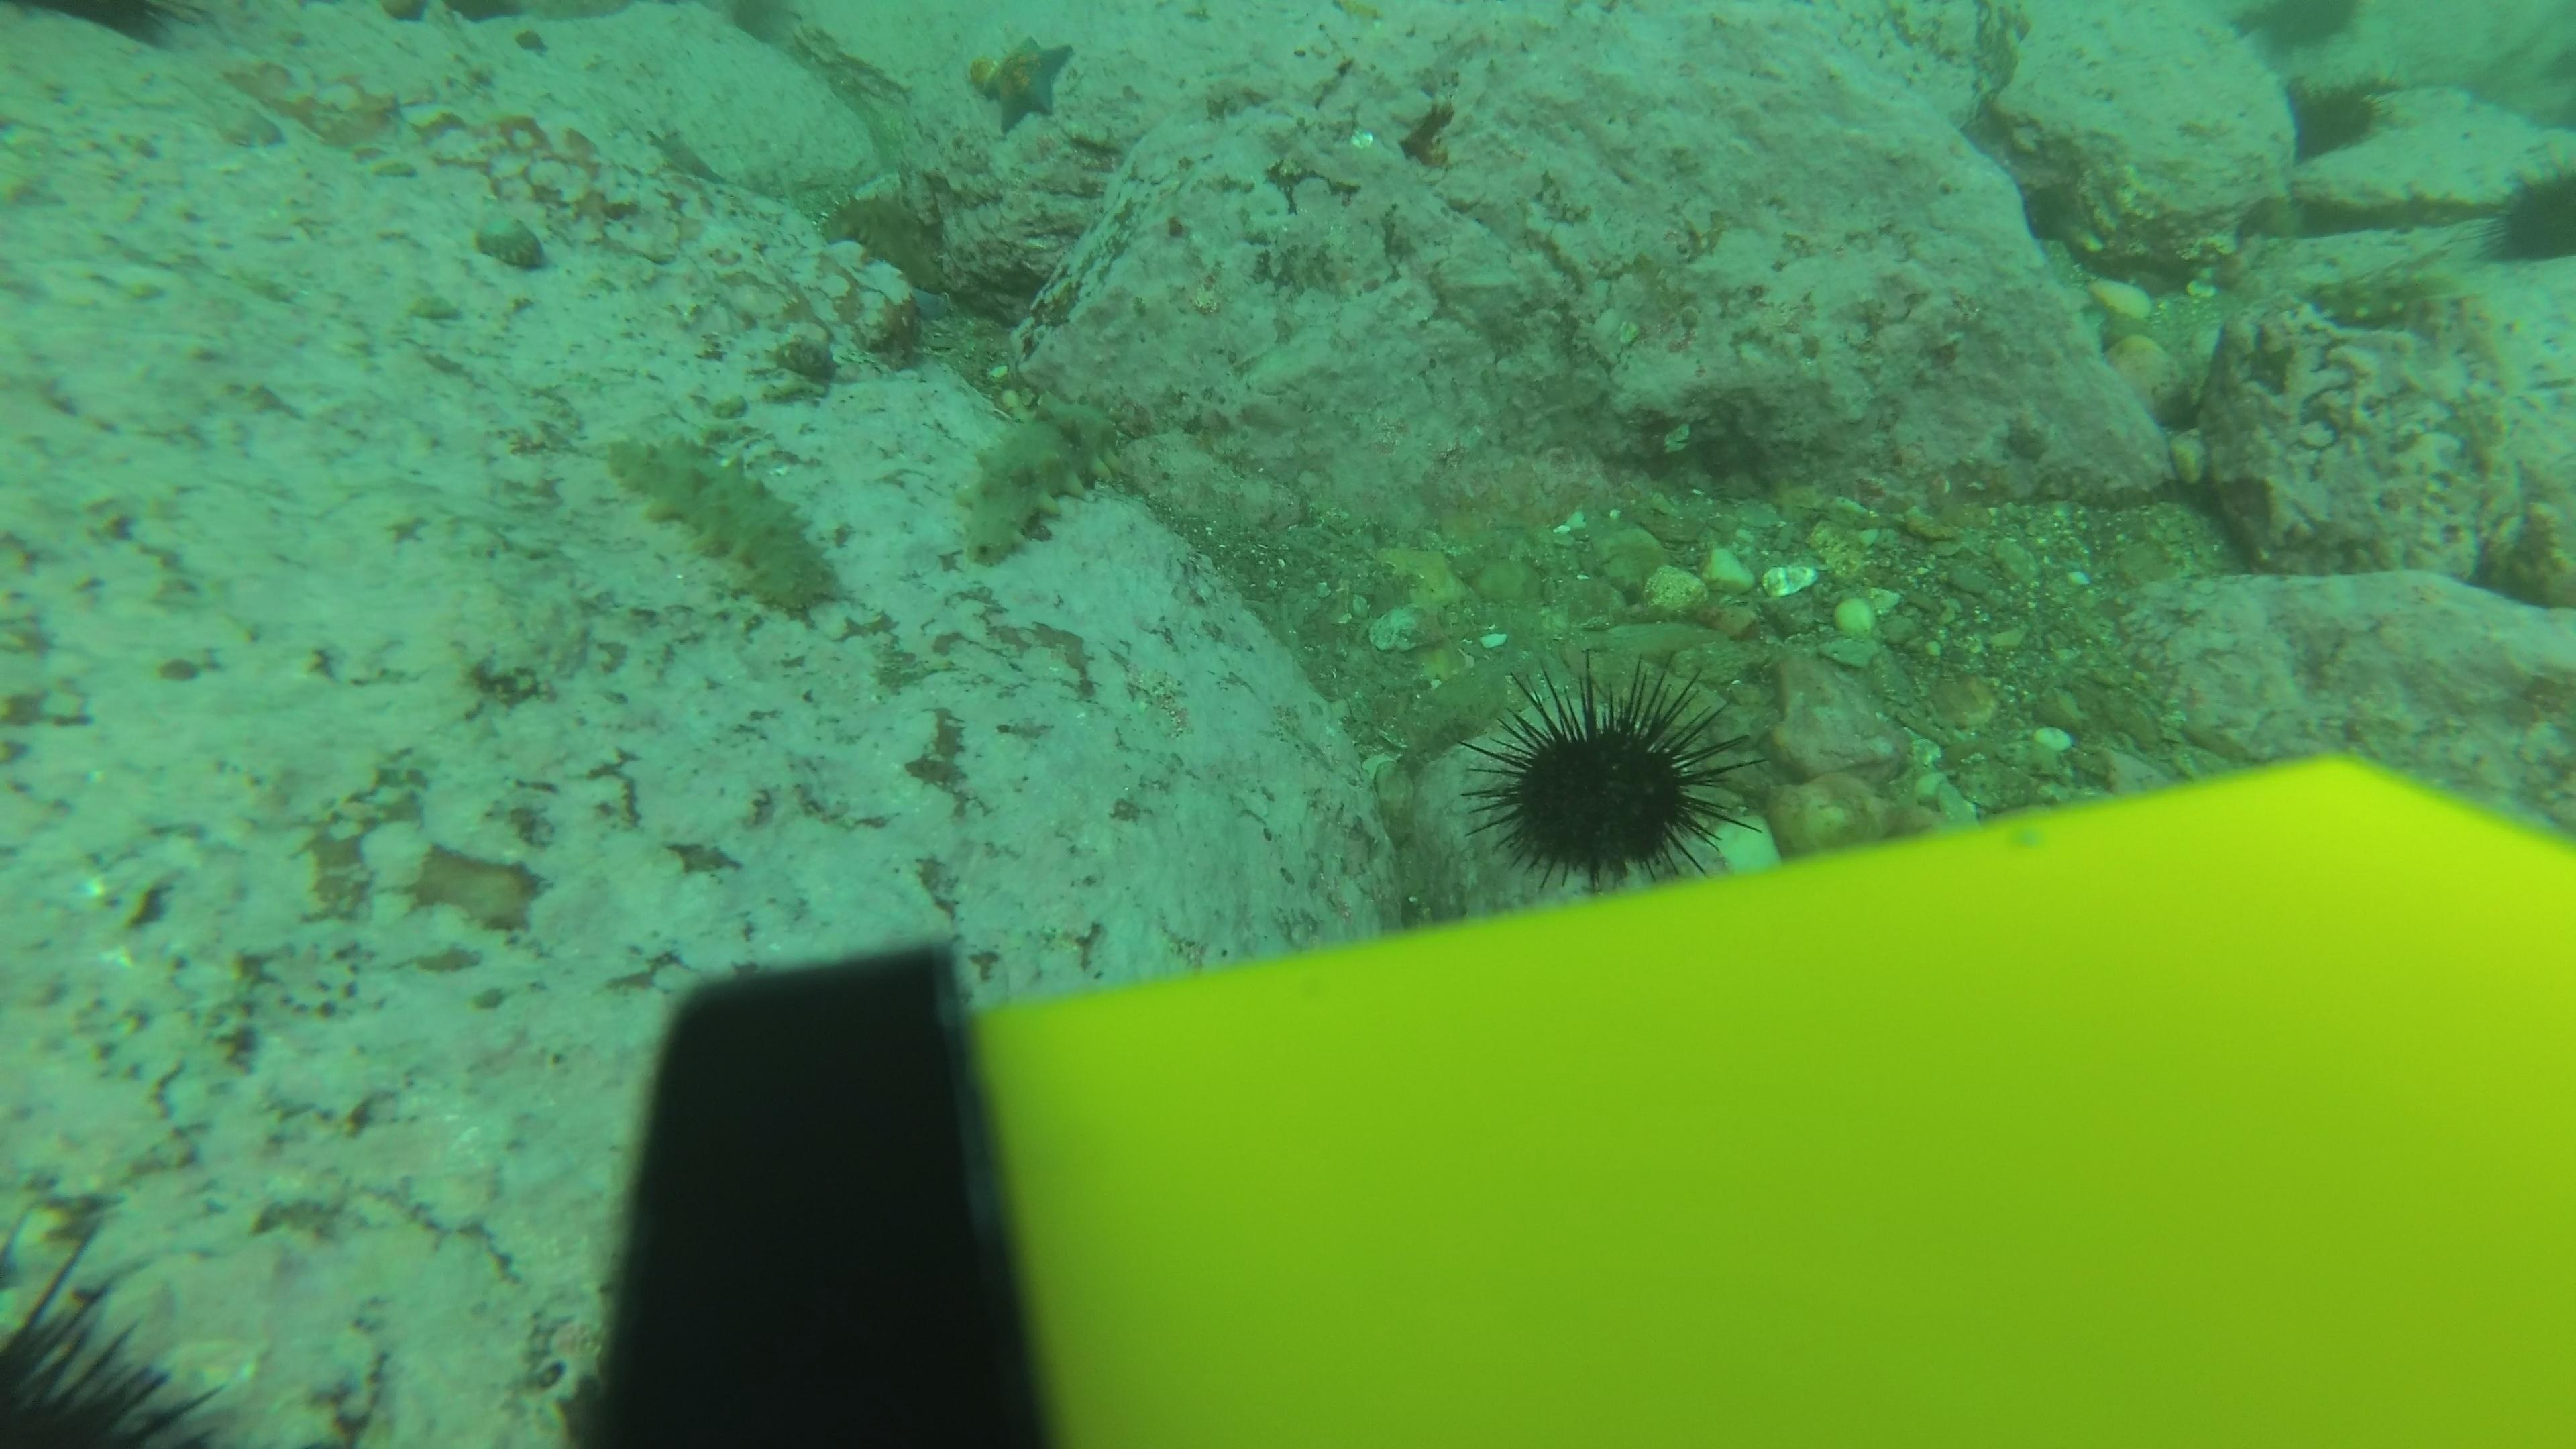echinus: (1467, 656, 1752, 888), (4, 1214, 230, 1438), (2479, 157, 2576, 272), (2279, 71, 2392, 166), (2229, 0, 2367, 62)
holothurian: (602, 423, 842, 623), (941, 380, 1134, 573), (2302, 260, 2463, 340)
starfish: (966, 30, 1079, 134), (646, 120, 724, 189)
